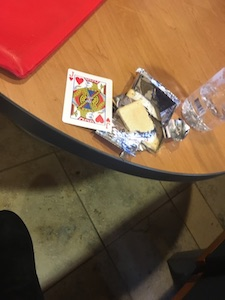JackOfHearts: (60, 67, 114, 135)
